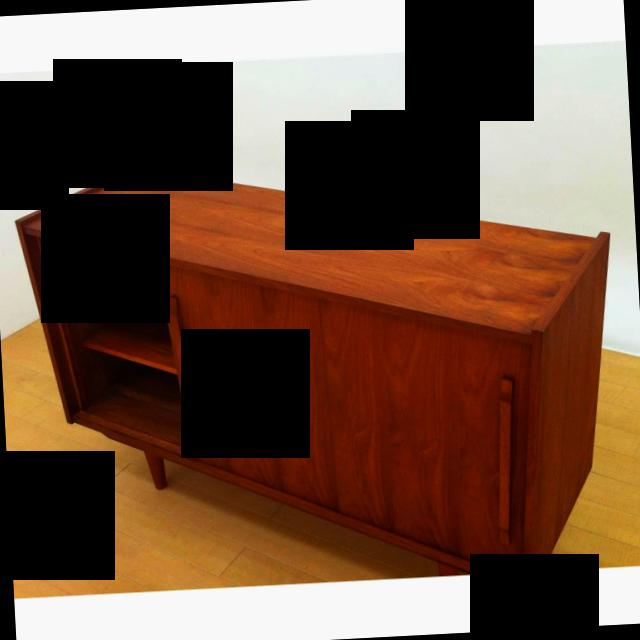vintage shelf: (8, 132, 630, 594)
